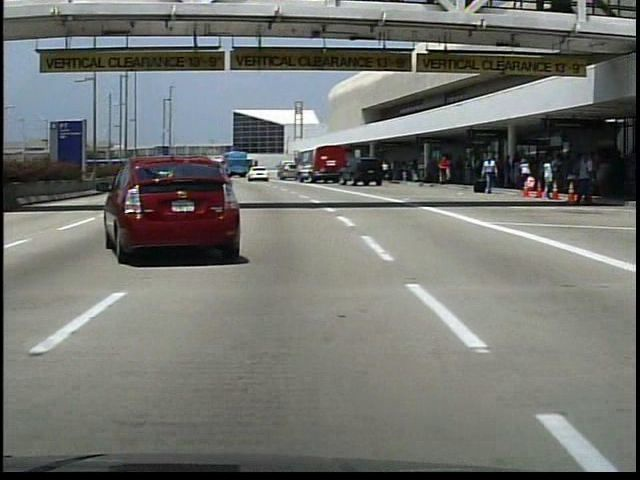person: (571, 154, 591, 206), (480, 154, 499, 195), (436, 156, 451, 185), (379, 161, 391, 182)
